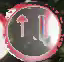Two way: (9, 6, 59, 55)
